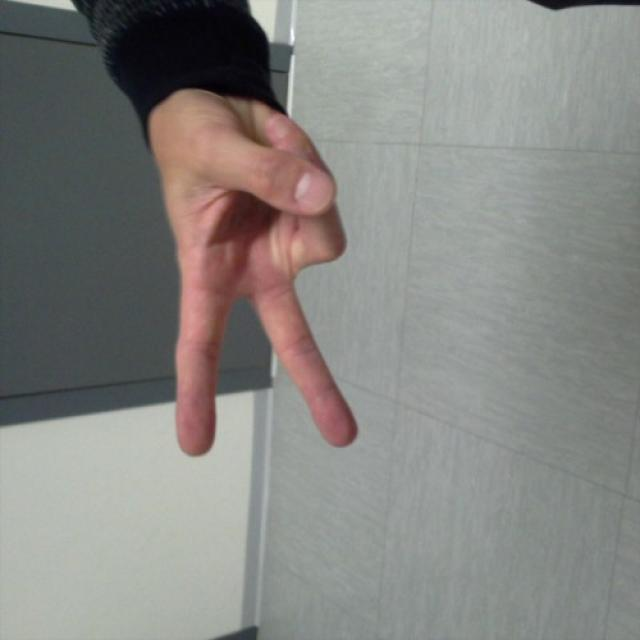scissors: (152, 136, 358, 454)
